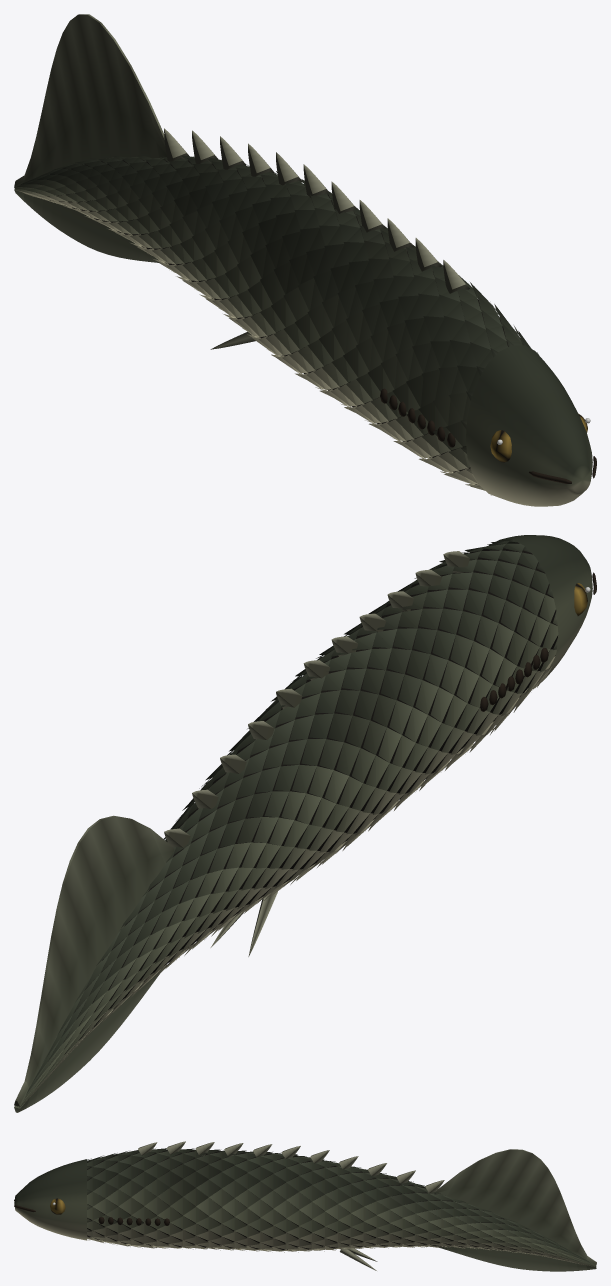
The model's file is BirkeniaElegans.fbx.
The picture shows the model from 3 angles, top to bottom: view 1: azimuth 30°, elevation 25°; view 2: azimuth 150°, elevation 25°; view 3: azimuth 270°, elevation 25°; orthographic projection. The views are drawn at different scales.
Parts seen in each view (by area): view 1: BirkeniaElegans; view 2: BirkeniaElegans; view 3: BirkeniaElegans.
Boxes of the visible parts, box(x1,y1,x2,y2) form: BirkeniaElegans: box(14, 14, 596, 506); BirkeniaElegans: box(14, 535, 596, 1112); BirkeniaElegans: box(14, 1141, 596, 1271).
Size of the model in its own units: 0.1725 by 0.3947 by 1.6.
